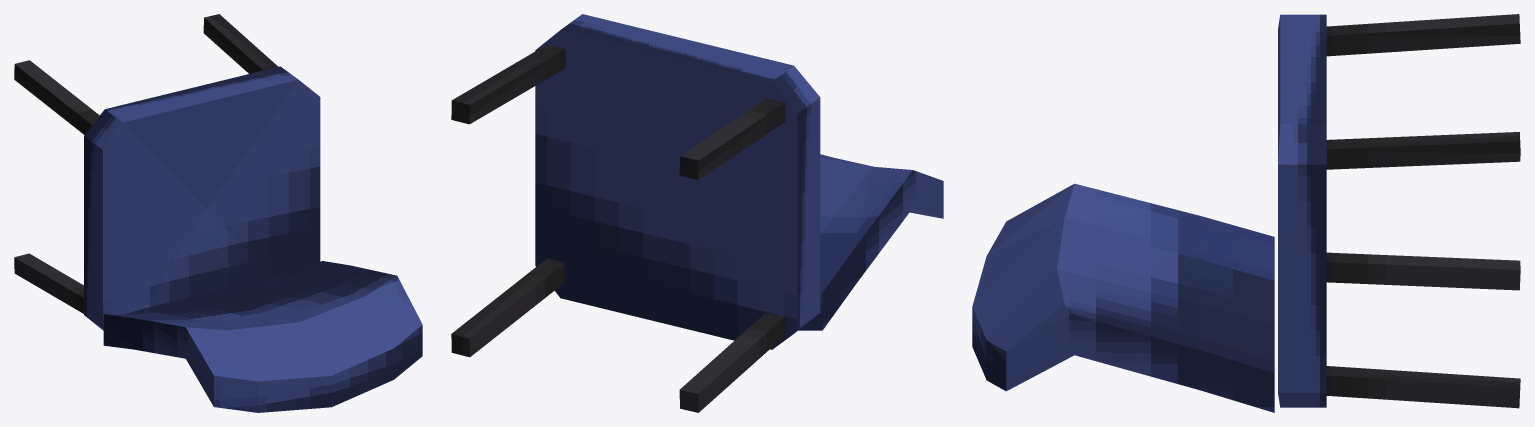
Rendered from pz_chair_seating_indoor_03_darkblue_modern_fidelity_r1.obj.
The picture shows the model from 3 angles, left to right: view 1: azimuth 30°, elevation 25°; view 2: azimuth 150°, elevation 25°; view 3: azimuth 270°, elevation 25°; orthographic projection. The views are drawn at different scales.
Visible parts, largest first — view 1: seat, back, frame; view 2: seat, frame, back; view 3: back, frame, seat.
Part boxes in pixels (left/top/right/bottom): seat: left=84, top=66, right=320, bottom=330; back: left=103, top=261, right=422, bottom=412; frame: left=14, top=14, right=278, bottom=313; seat: left=535, top=14, right=820, bottom=349; frame: left=451, top=44, right=785, bottom=412; back: left=798, top=154, right=943, bottom=330; back: left=972, top=183, right=1274, bottom=412; frame: left=1326, top=14, right=1520, bottom=408; seat: left=1278, top=14, right=1326, bottom=407.
Size of the model in its own units: 0.6093 by 0.6184 by 1.04.
1 material, 1 textured.
